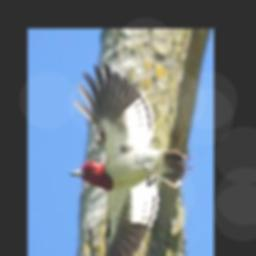Woodpecker: (69, 64, 191, 256)
